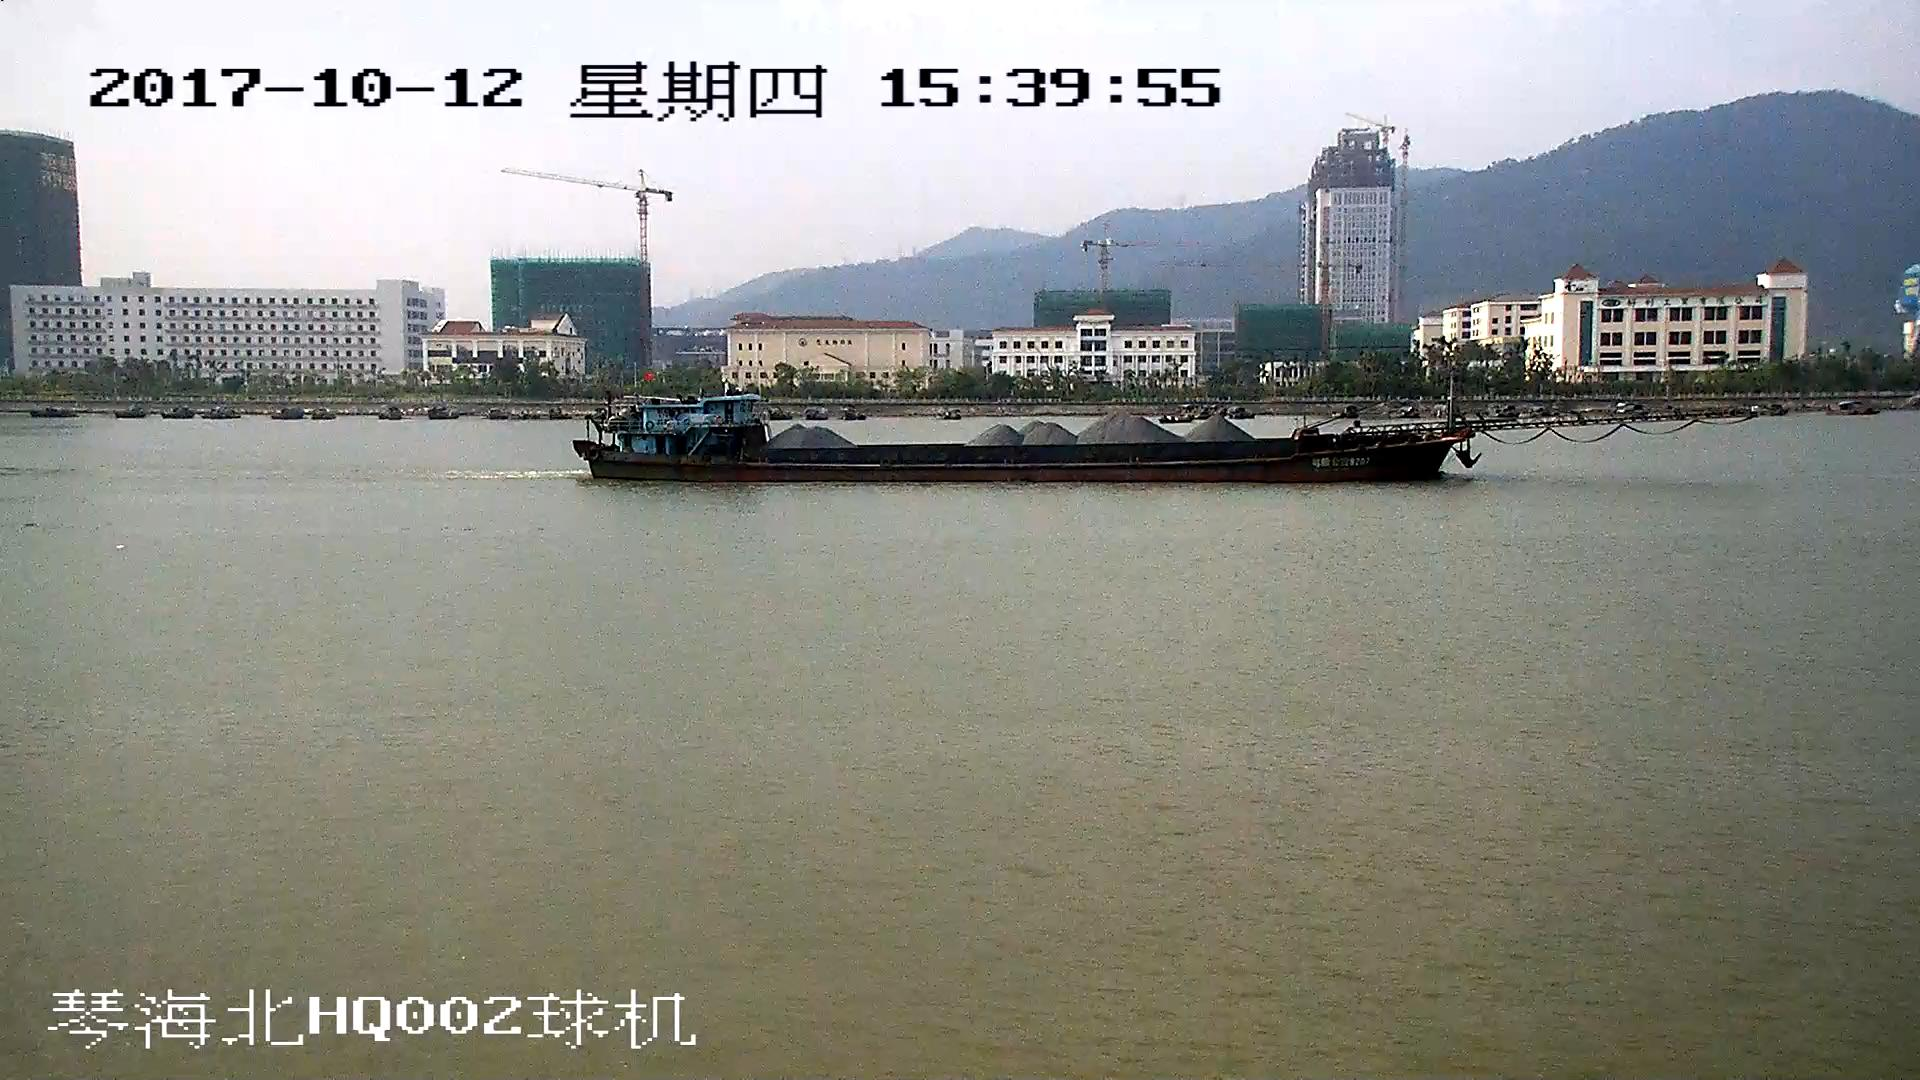ore carrier: (571, 378, 1703, 486)
